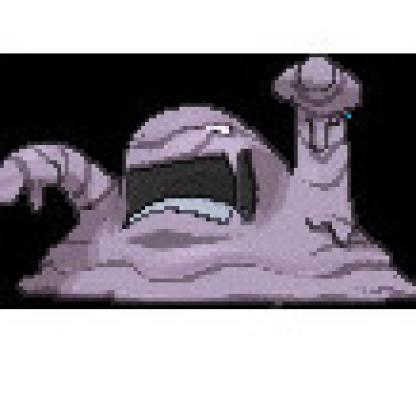Muk: (1, 43, 413, 325)
